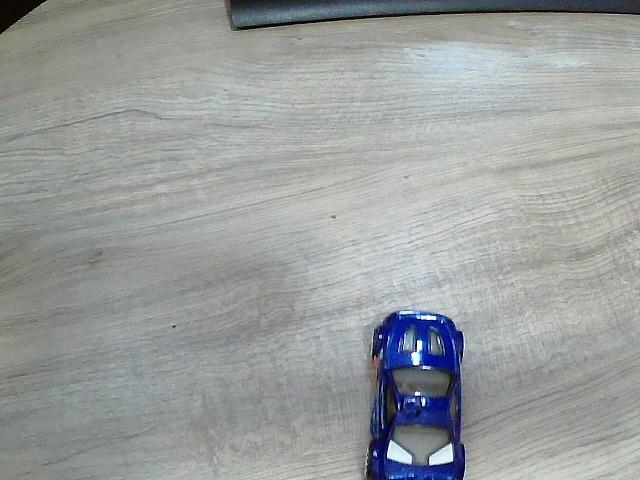Carro: (366, 312, 465, 479)
